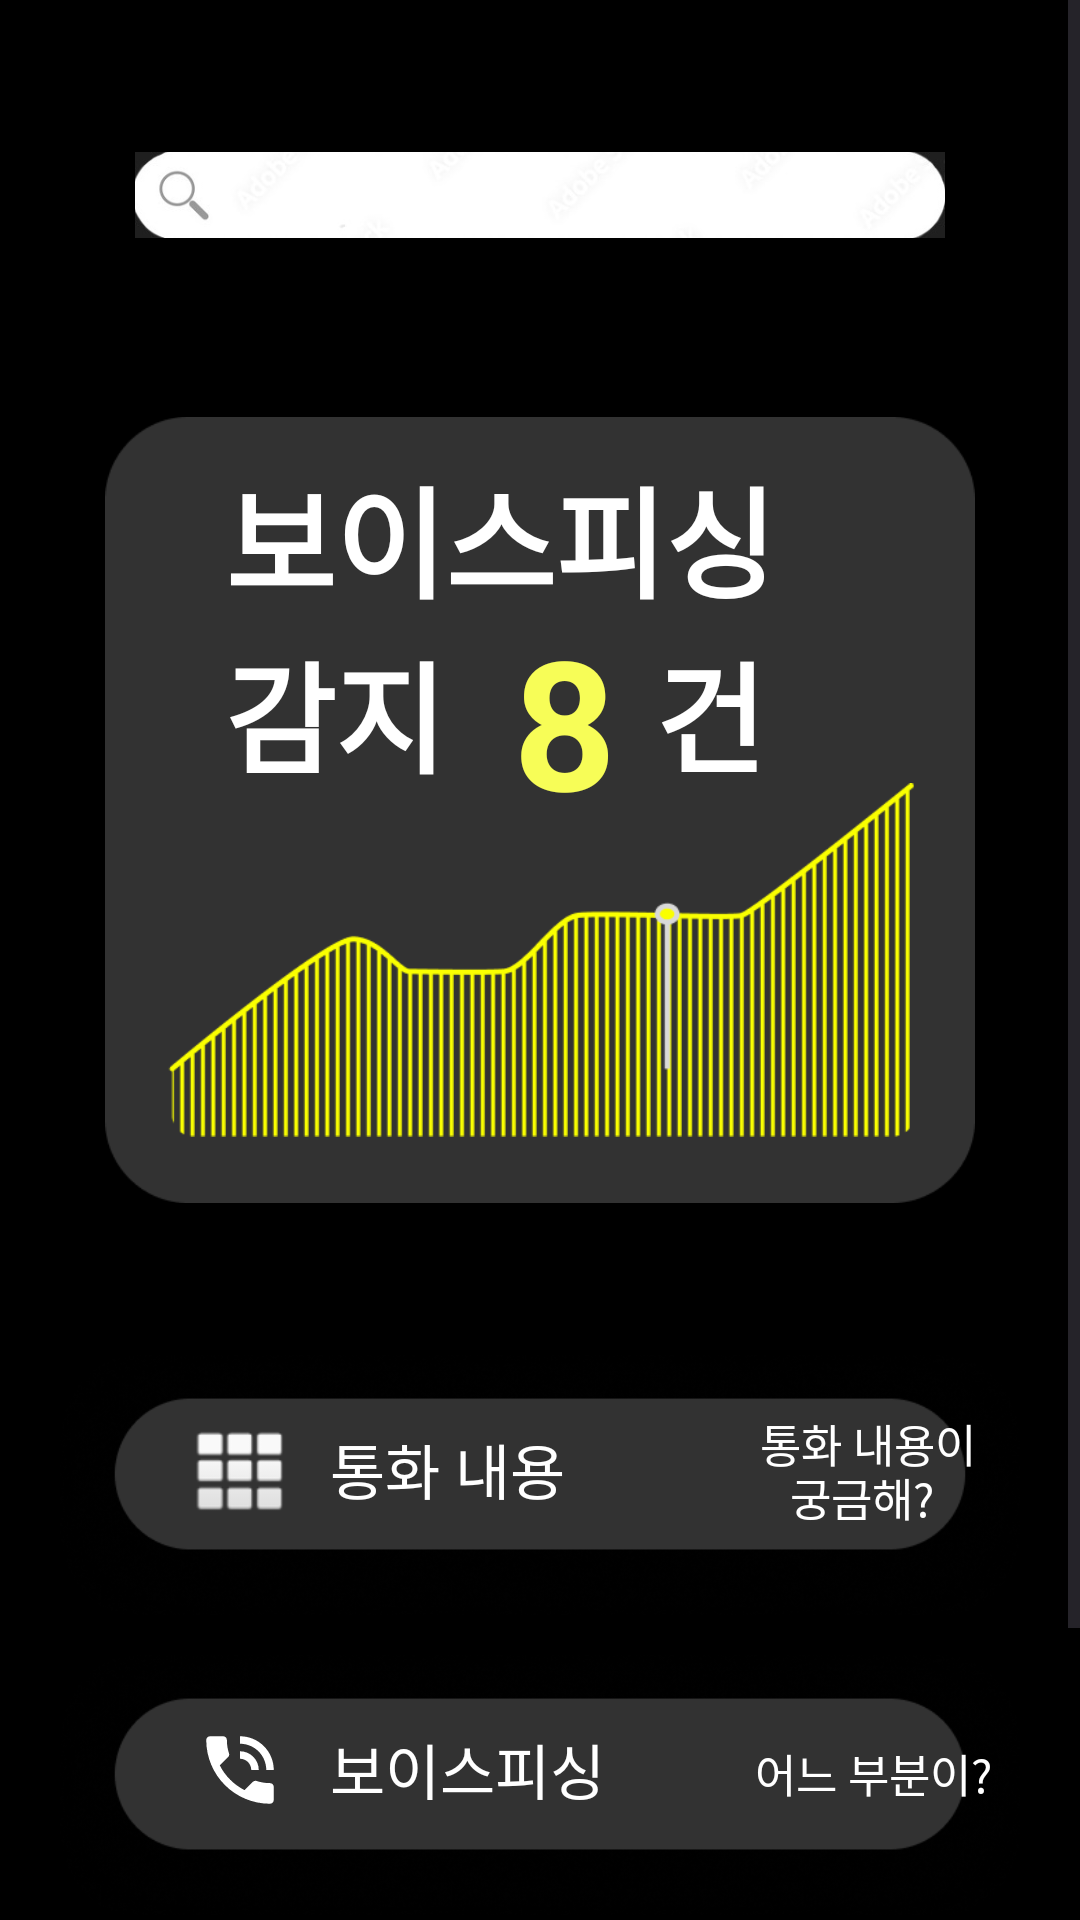

Where to tap for icons on this 1080 × 1920 app screen, as point (x, y):
speakerphone: point (240, 1770)
